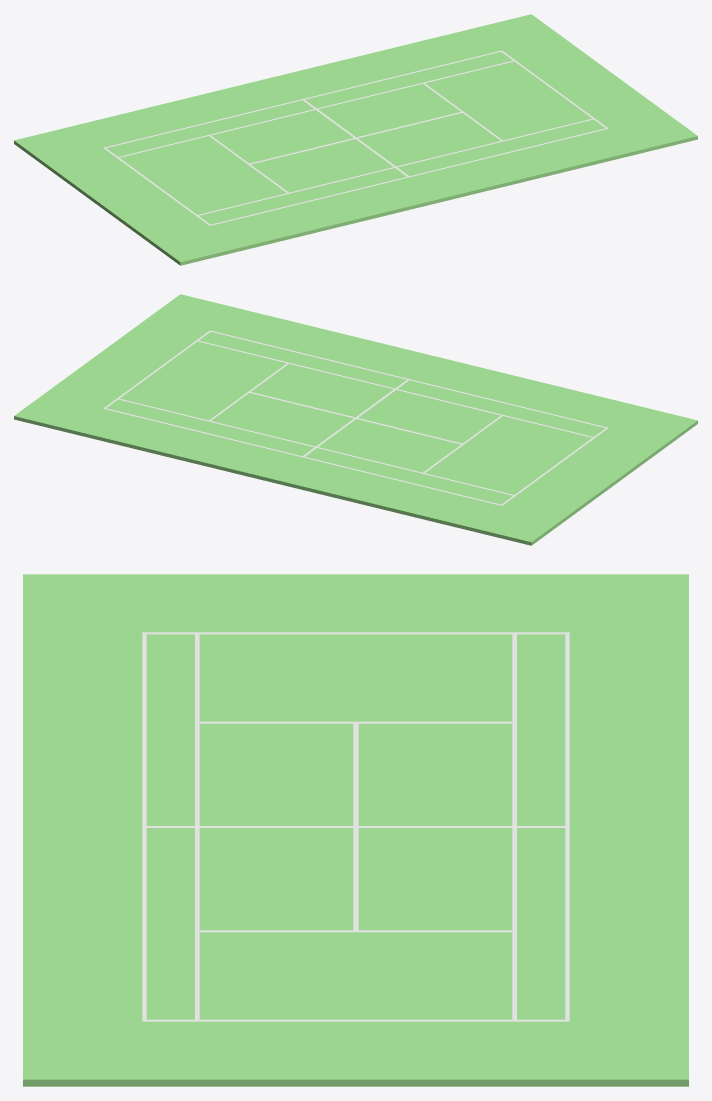
Rendered from ENV_URB_Tenniscourt.fbx.
3 renders of one model, top to bottom at view 1: azimuth 30°, elevation 25°; view 2: azimuth 150°, elevation 25°; view 3: azimuth 270°, elevation 25°, orthographic. The views are drawn at different scales.
Parts seen in each view (by area): view 1: Box001; view 2: Box001; view 3: Box001.
Part boxes in pixels (x1=…): Box001: x1=14, y1=14, x2=697, y2=265; Box001: x1=14, y1=294, x2=697, y2=545; Box001: x1=23, y1=574, x2=688, y2=1086.
Bounding box in the file's own units: 3097 × 20.07 × 1726.
